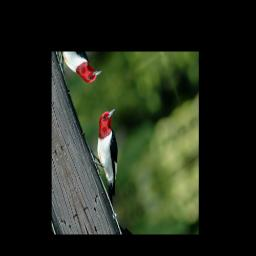Woodpecker: (78, 104, 144, 213)
